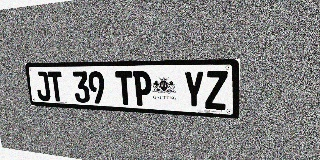3: (72, 71, 90, 103)
9: (87, 71, 106, 104)
J: (34, 71, 51, 101)
P: (133, 71, 152, 106)
T: (115, 71, 134, 105), (47, 71, 65, 102)
Y: (183, 71, 204, 109)
Z: (205, 71, 228, 110)
